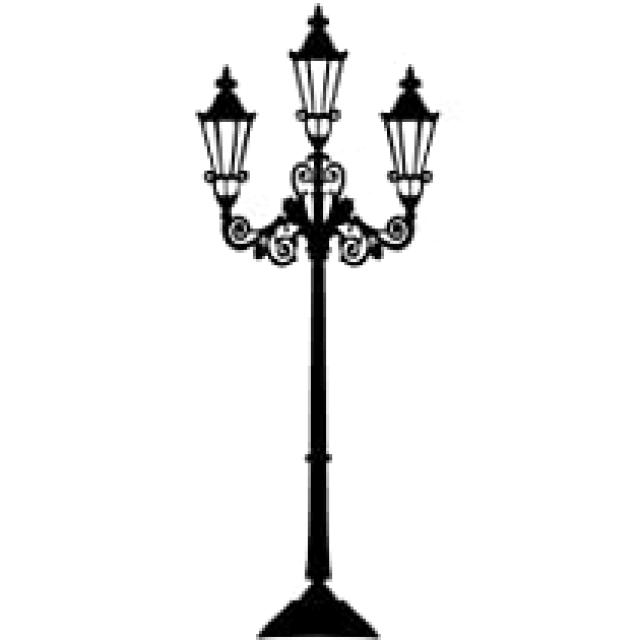Street Light: (192, 3, 439, 640)
